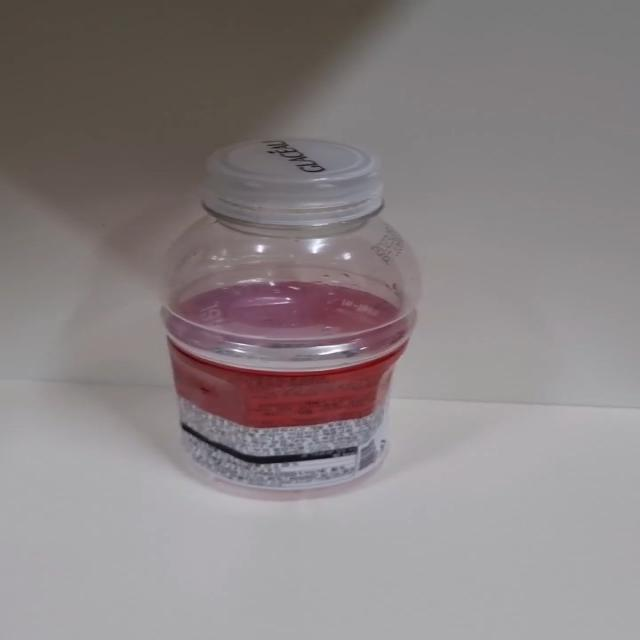Plastic: (159, 138, 424, 503)
